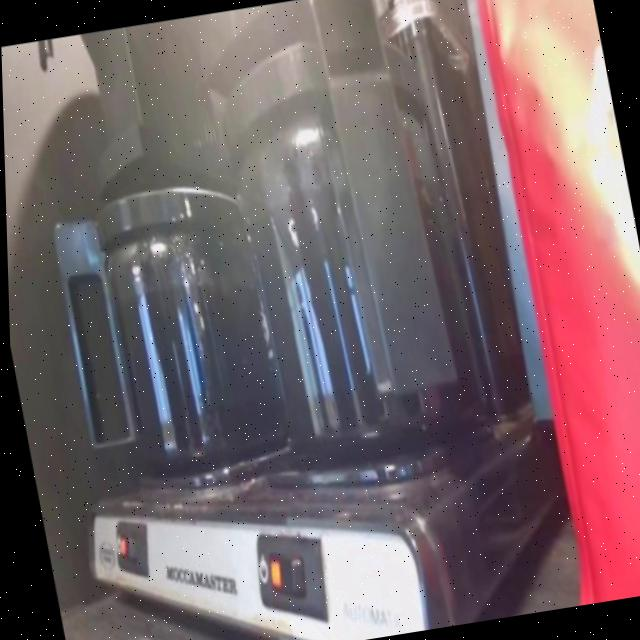coffee: (234, 128, 488, 470), (102, 238, 285, 471)
